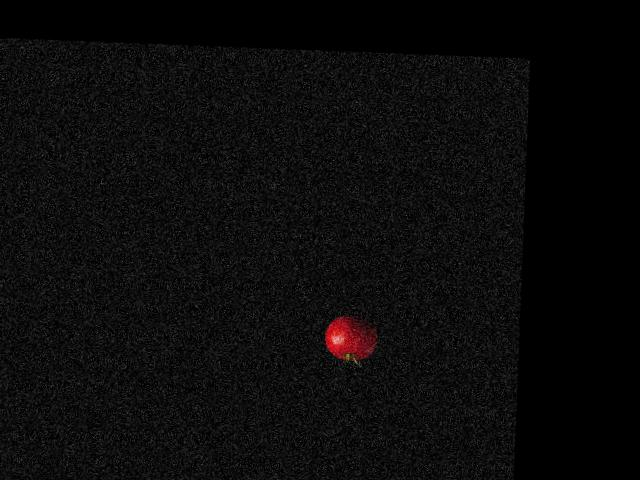tomato: (324, 315, 378, 361)
